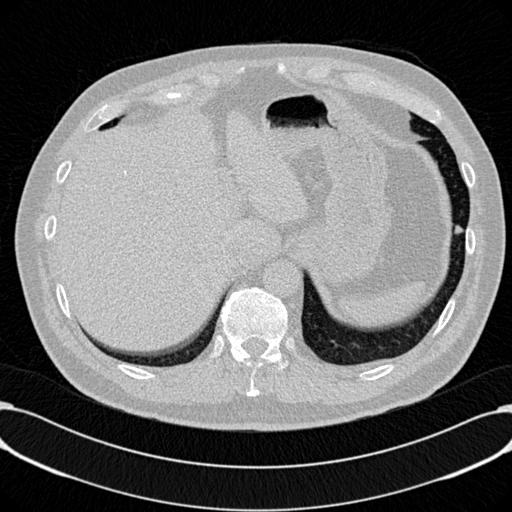nodule: (451, 223, 464, 236)
